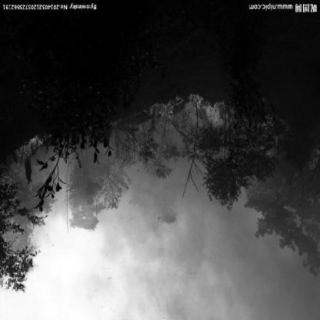Fire: (0, 225, 126, 318), (146, 93, 234, 141), (10, 134, 50, 173)
